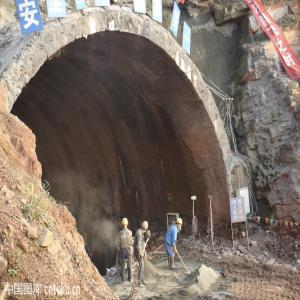red: (142, 223, 149, 234)
yellow: (177, 218, 184, 230), (123, 219, 129, 229)
